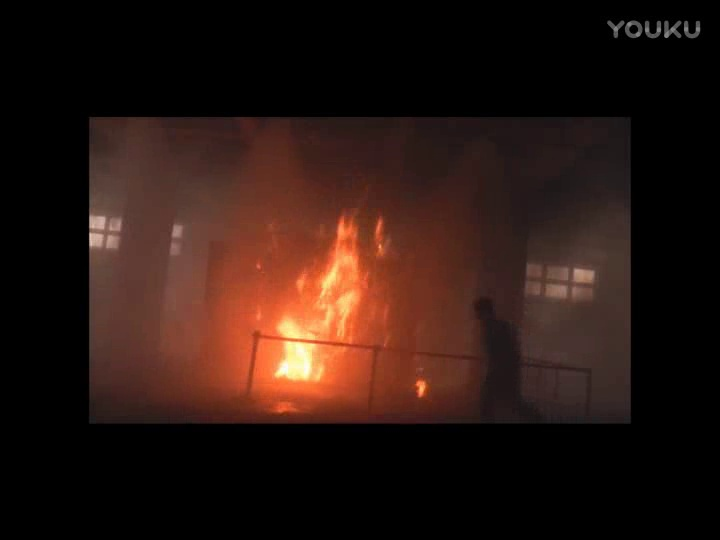fire: (321, 218, 370, 338), (274, 310, 324, 380)
